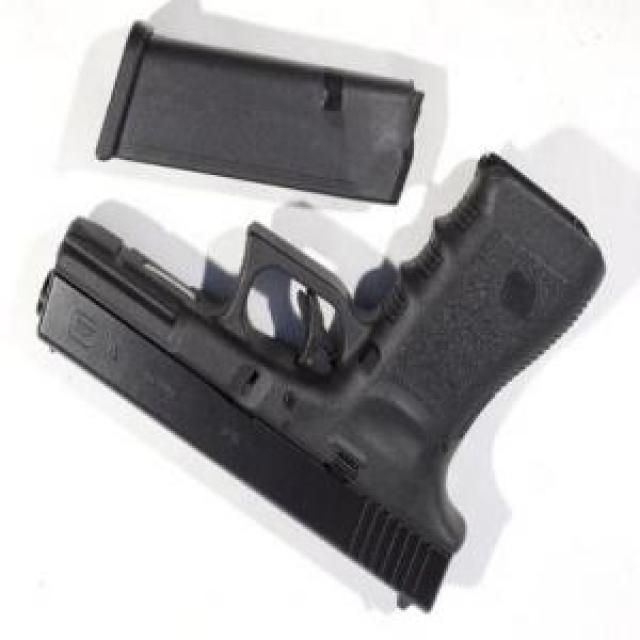pistol: (32, 118, 606, 619)
